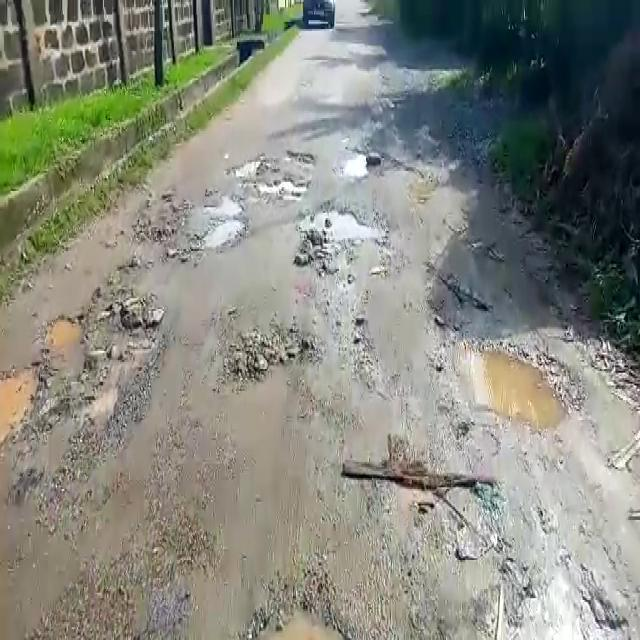pothole: (445, 331, 577, 432), (42, 298, 156, 391), (247, 576, 351, 640), (297, 202, 387, 252), (1, 359, 40, 444), (194, 219, 253, 255), (193, 191, 246, 221), (336, 150, 374, 180), (224, 153, 265, 178), (250, 180, 309, 197)
